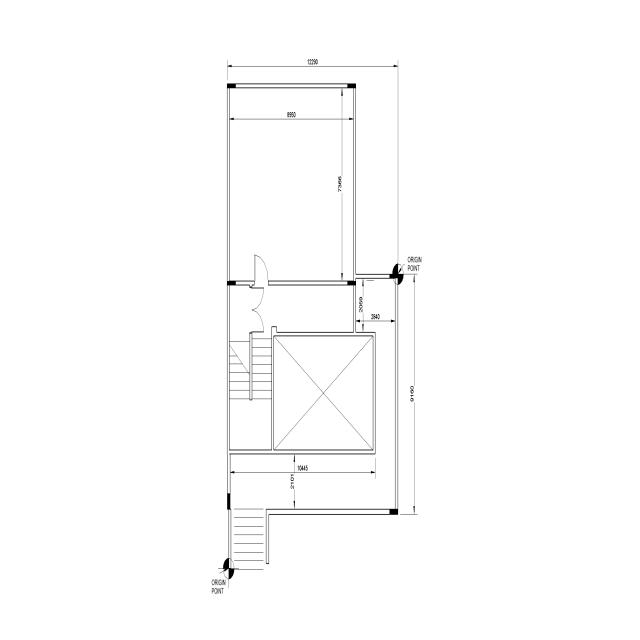Column: (390, 508, 398, 514), (347, 83, 356, 88), (347, 281, 356, 285), (227, 281, 236, 285), (227, 84, 236, 88), (228, 493, 230, 510), (390, 274, 398, 278)
Door: (253, 254, 270, 286)
Double-Door: (248, 288, 264, 334)
Staircase: (228, 333, 273, 452)
